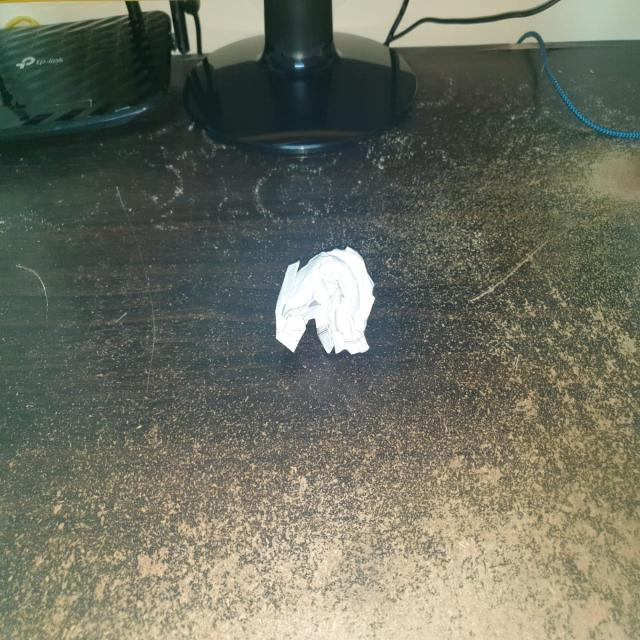Paper: (273, 247, 375, 358)
